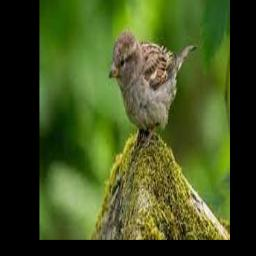Sparrow: (108, 28, 196, 146)
